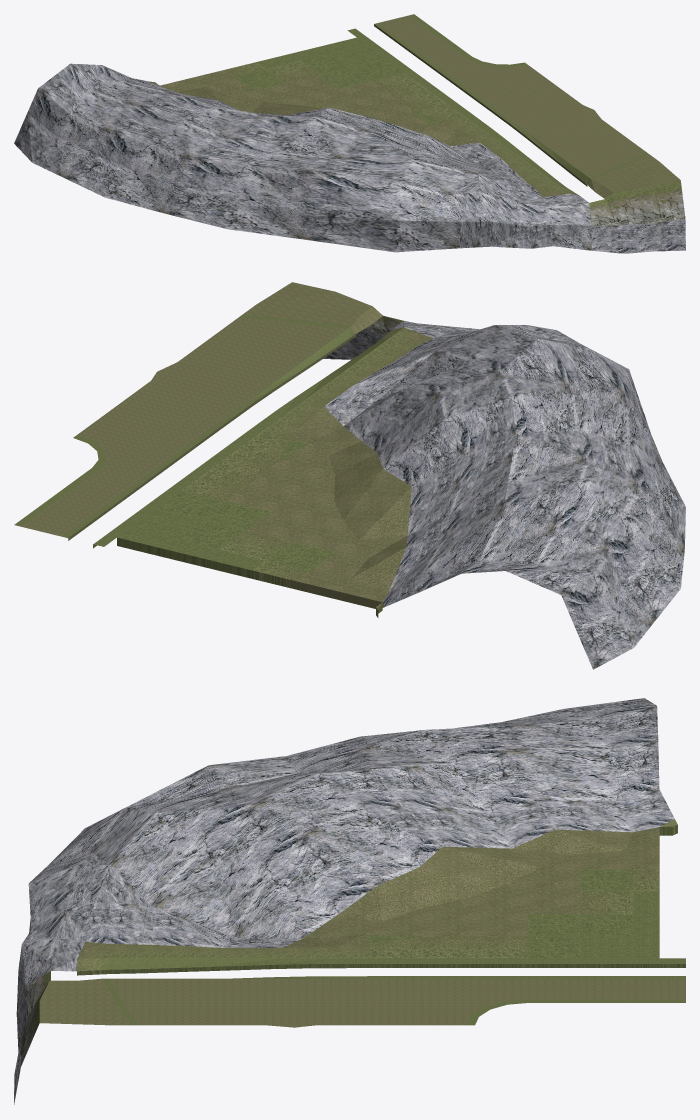
The model's file is vgsecoast05.obj.
3 views of the same model, one above another, from view 1: azimuth 30°, elevation 25°; view 2: azimuth 150°, elevation 25°; view 3: azimuth 270°, elevation 25° (orthographic). The views are drawn at different scales.
Visible parts, largest first — view 1: vgsEcoast05; view 2: vgsEcoast05; view 3: vgsEcoast05.
Part boxes in pixels (x1,y1,x2,y2): vgsEcoast05: (14, 14, 685, 253); vgsEcoast05: (14, 282, 685, 669); vgsEcoast05: (14, 698, 685, 1104).
Size of the model in its own units: 274 by 66.37 by 255.
13 materials, 13 textured.
